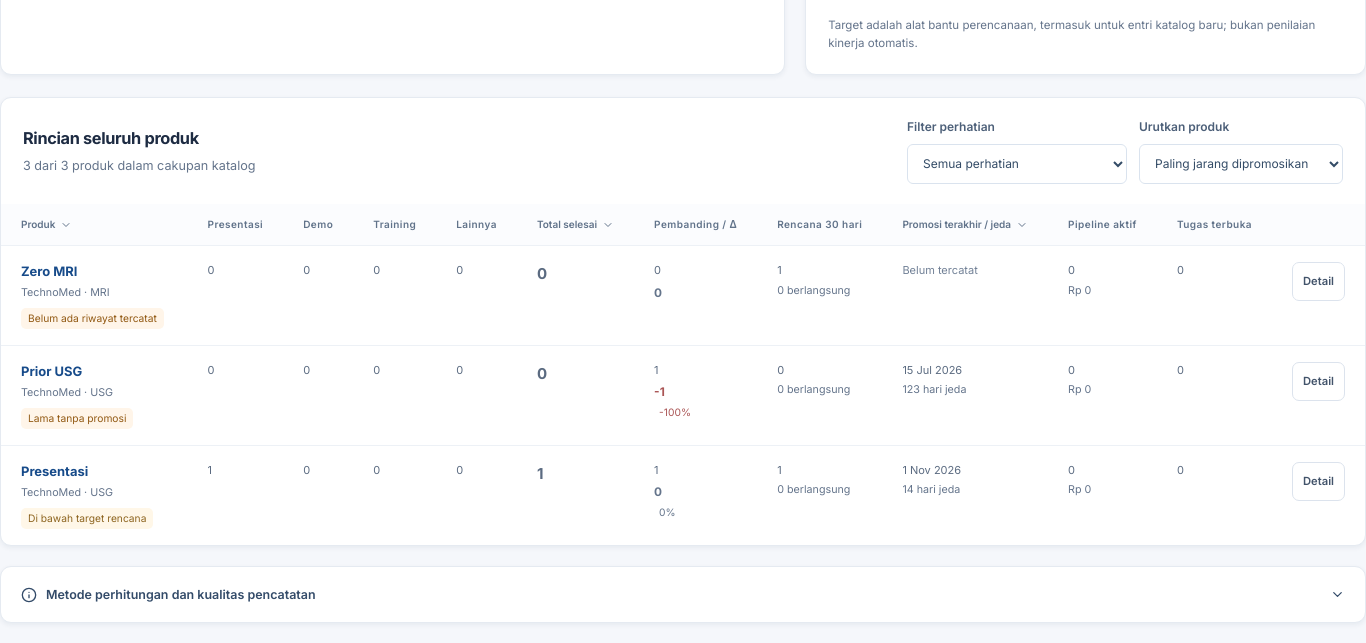
Test: product analytics decision flows › disables planning for viewer while leaving analytics readable
Later steps or results of the test are not shown.
(page scrolled)
What coordinates should you click on to do the following:
click the button with aria-label "Lihat analitik Zero MRI"
I would click on:
 (1318, 282)
Its box is [1292,262,1345,302].
(page scrolled)
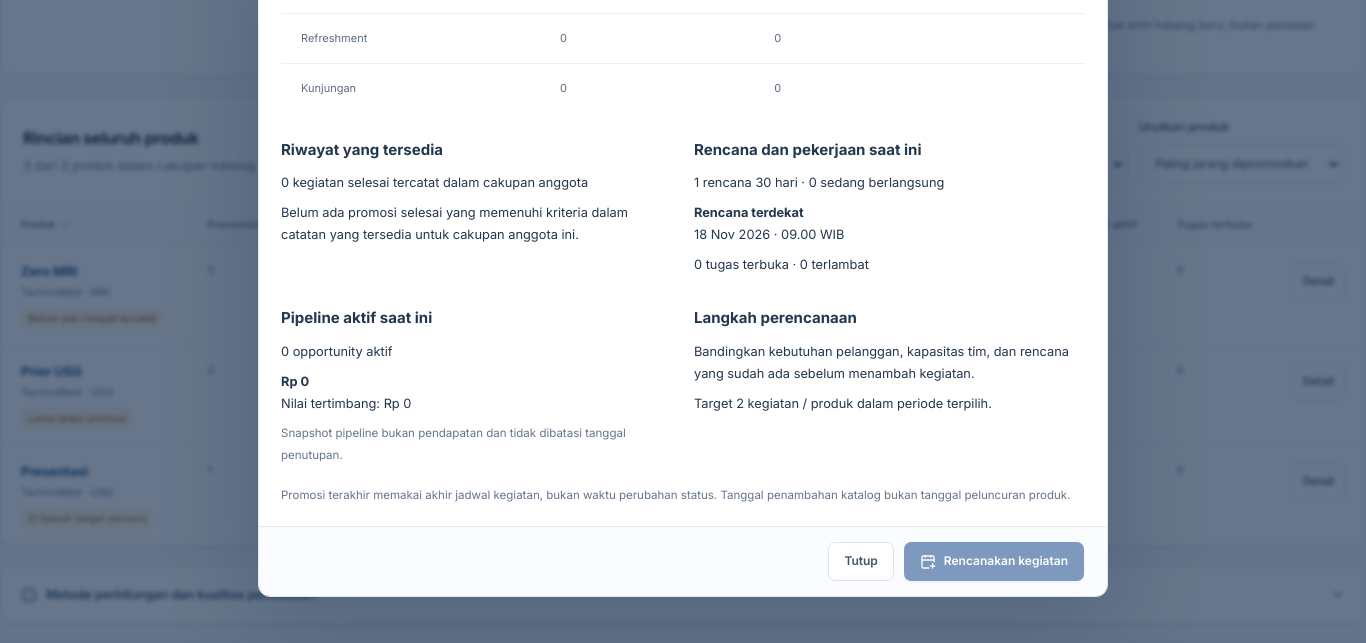
Result: the button "Rencanakan kegiatan" is disabled at [904,542,1084,581]
